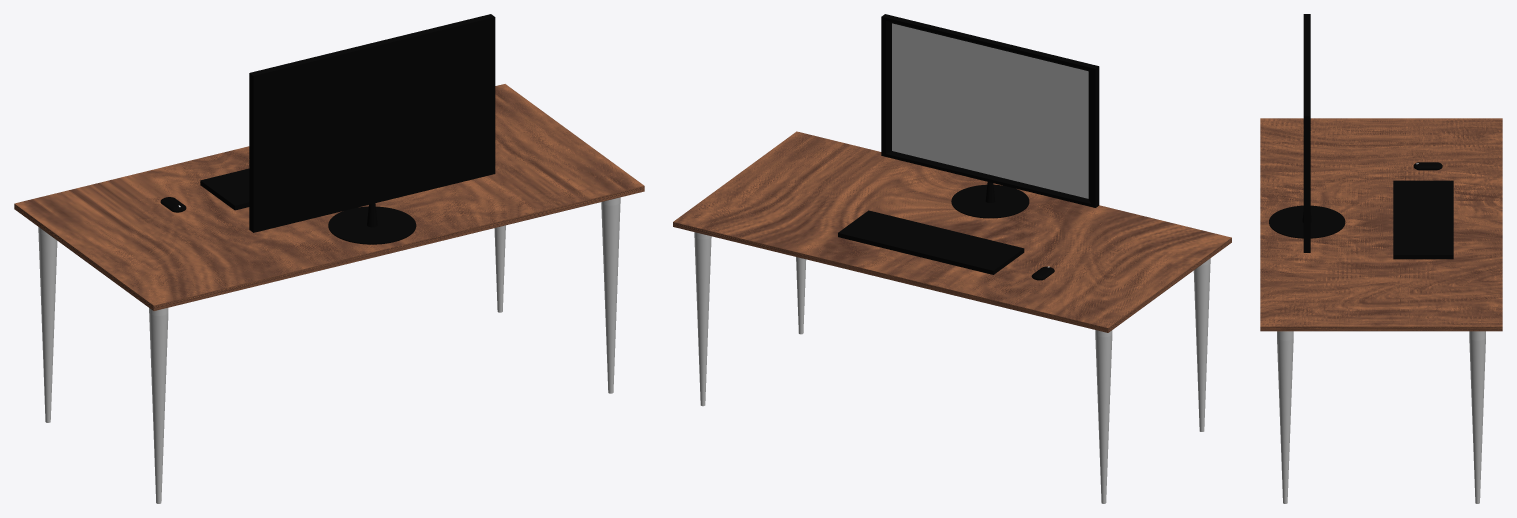
3 renders of one model, left to right at view 1: azimuth 30°, elevation 25°; view 2: azimuth 150°, elevation 25°; view 3: azimuth 270°, elevation 25°, orthographic. The views are drawn at different scales.
Parts seen in each view (by area): view 1: ﺔﻧﺍﻮﻄﺳﺃ.001, ﺔﻧﺍﻮﻄﺳﺃ, ﺐﻌﻜﻣ; view 2: ﺔﻧﺍﻮﻄﺳﺃ.001, ﺔﻧﺍﻮﻄﺳﺃ, ﺐﻌﻜﻣ; view 3: ﺔﻧﺍﻮﻄﺳﺃ.001, ﺐﻌﻜﻣ, ﺔﻧﺍﻮﻄﺳﺃ.
Part boxes in pixels (bbox=[...]): ﺔﻧﺍﻮﻄﺳﺃ.001: bbox=[14, 84, 644, 503]; ﺔﻧﺍﻮﻄﺳﺃ: bbox=[249, 14, 495, 244]; ﺐﻌﻜﻣ: bbox=[200, 168, 249, 210]; ﺔﻧﺍﻮﻄﺳﺃ.001: bbox=[673, 131, 1231, 503]; ﺔﻧﺍﻮﻄﺳﺃ: bbox=[881, 14, 1099, 218]; ﺐﻌﻜﻣ: bbox=[838, 210, 1024, 274]; ﺔﻧﺍﻮﻄﺳﺃ.001: bbox=[1260, 118, 1502, 503]; ﺐﻌﻜﻣ: bbox=[1393, 180, 1453, 259]; ﺔﻧﺍﻮﻄﺳﺃ: bbox=[1269, 14, 1345, 252].
Bounding box in the file's own units: 406 × 311 × 200.
